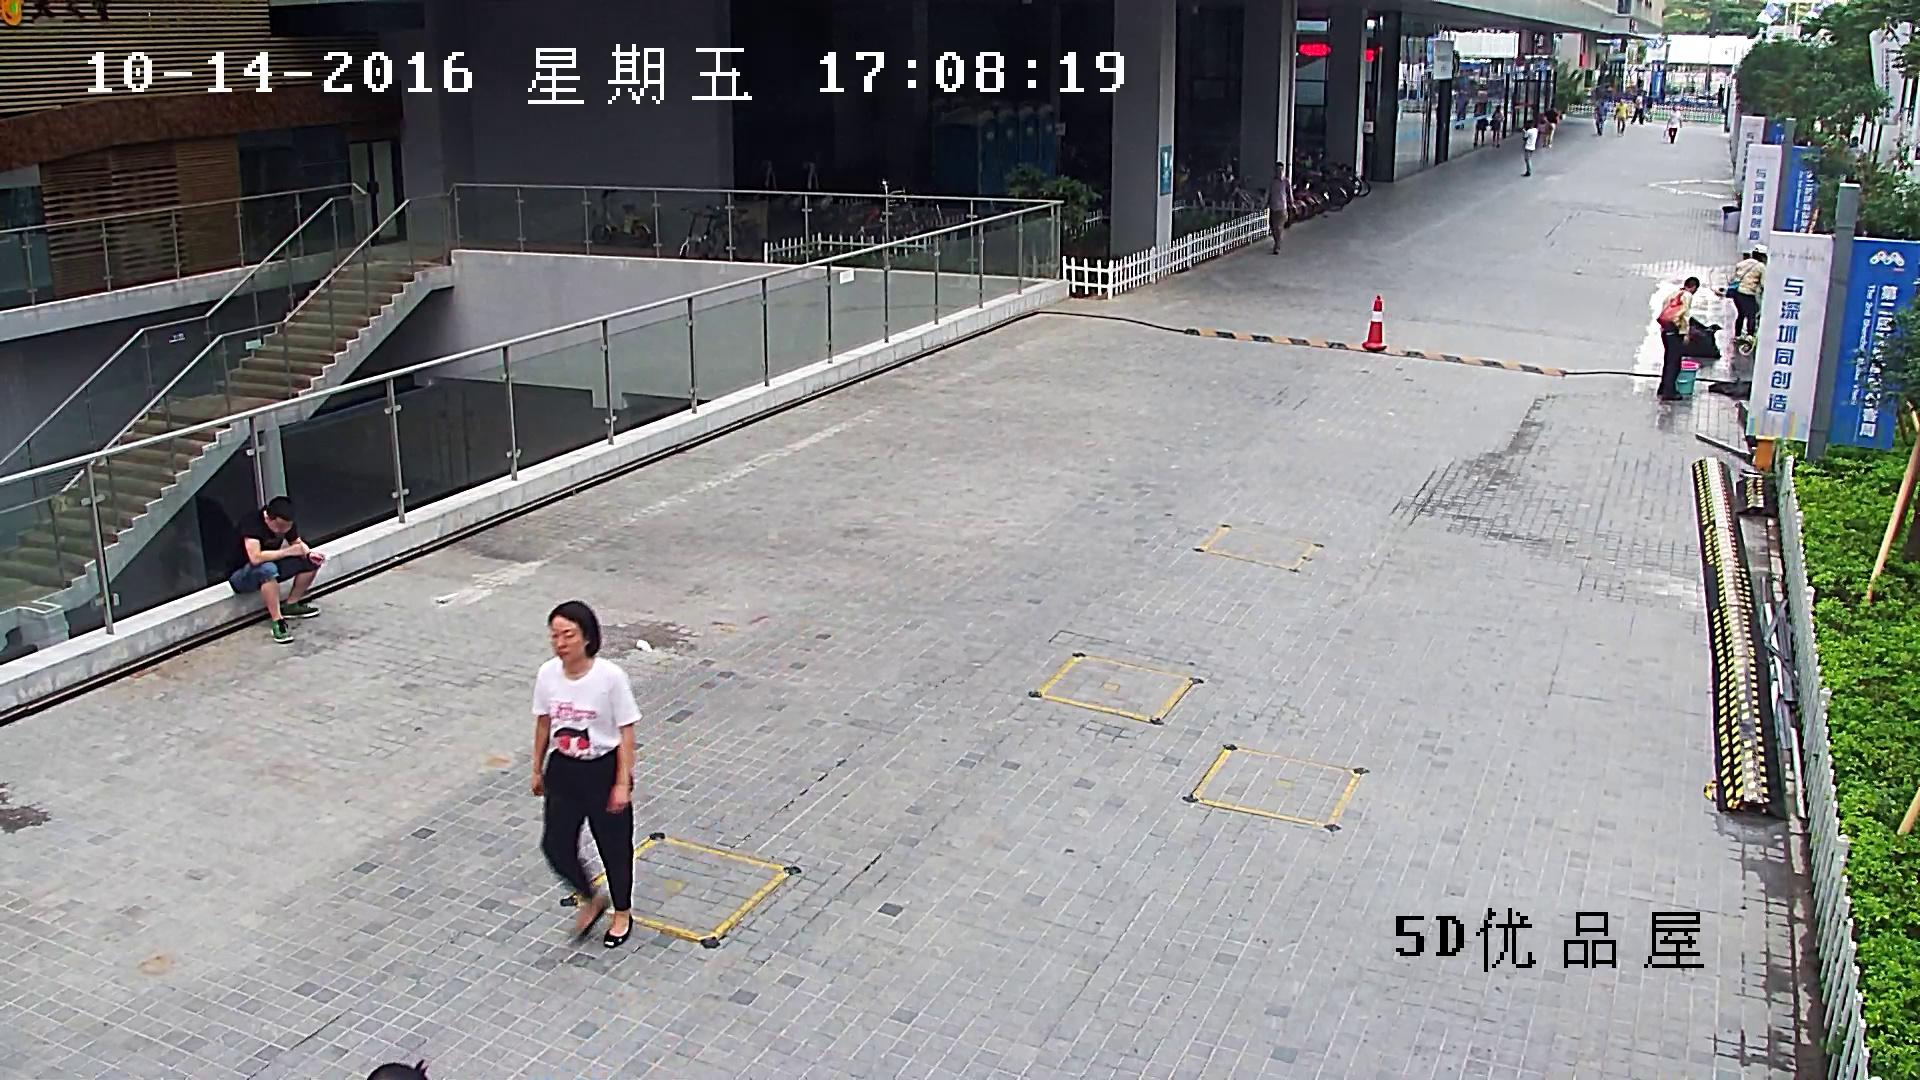person: (531, 599, 642, 948), (226, 496, 323, 643), (160, 490, 234, 590), (1655, 277, 1699, 400), (1726, 252, 1766, 336), (1263, 161, 1294, 254), (1520, 120, 1537, 176), (1472, 103, 1487, 147), (1543, 103, 1558, 149), (1490, 105, 1504, 146), (1614, 97, 1628, 135), (1667, 105, 1681, 143), (1629, 93, 1644, 126), (1454, 93, 1467, 129), (1594, 101, 1606, 135)
